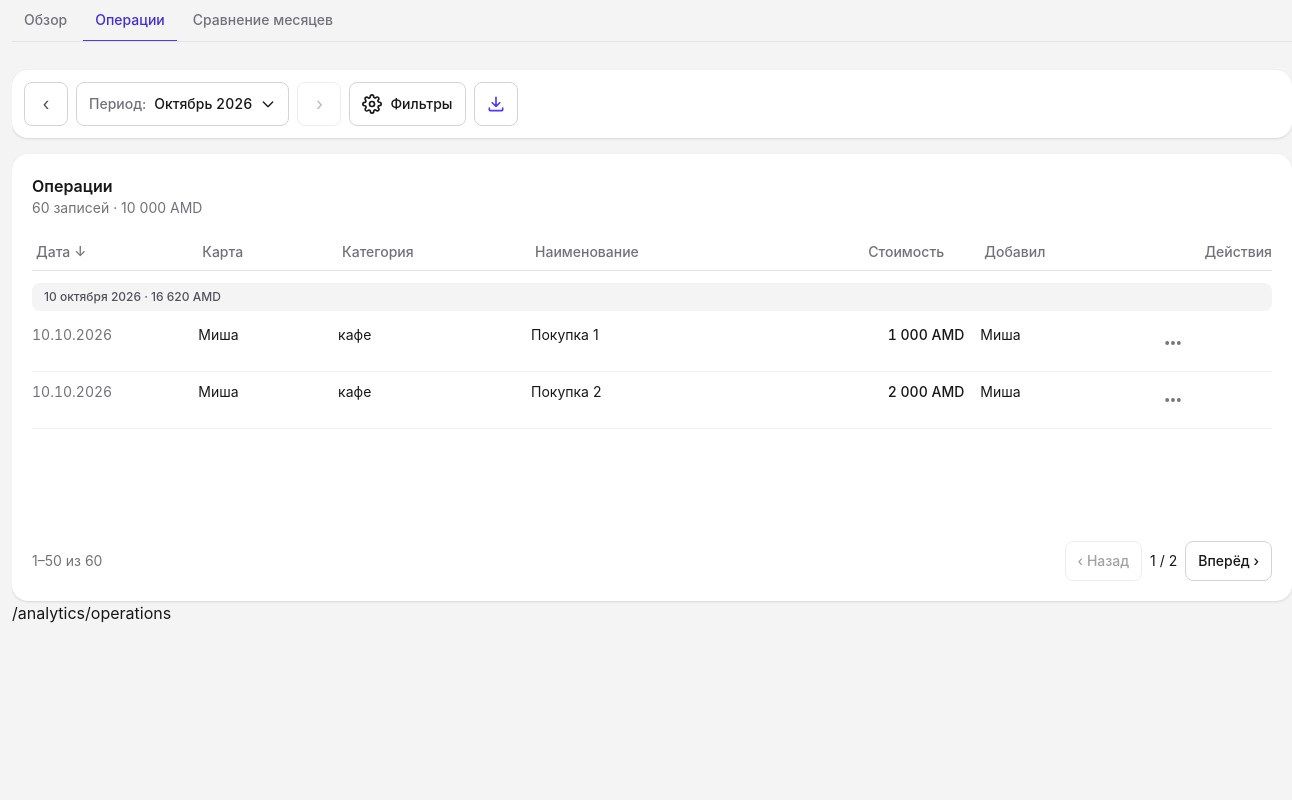
таблица на десктопе: заголовки дней › день, разбитый границей страницы, получает заголовок и на следующей странице (с полной суммой)
Click the button "Вперёд ›" at [1229, 561], box [1185,541,1272,581]
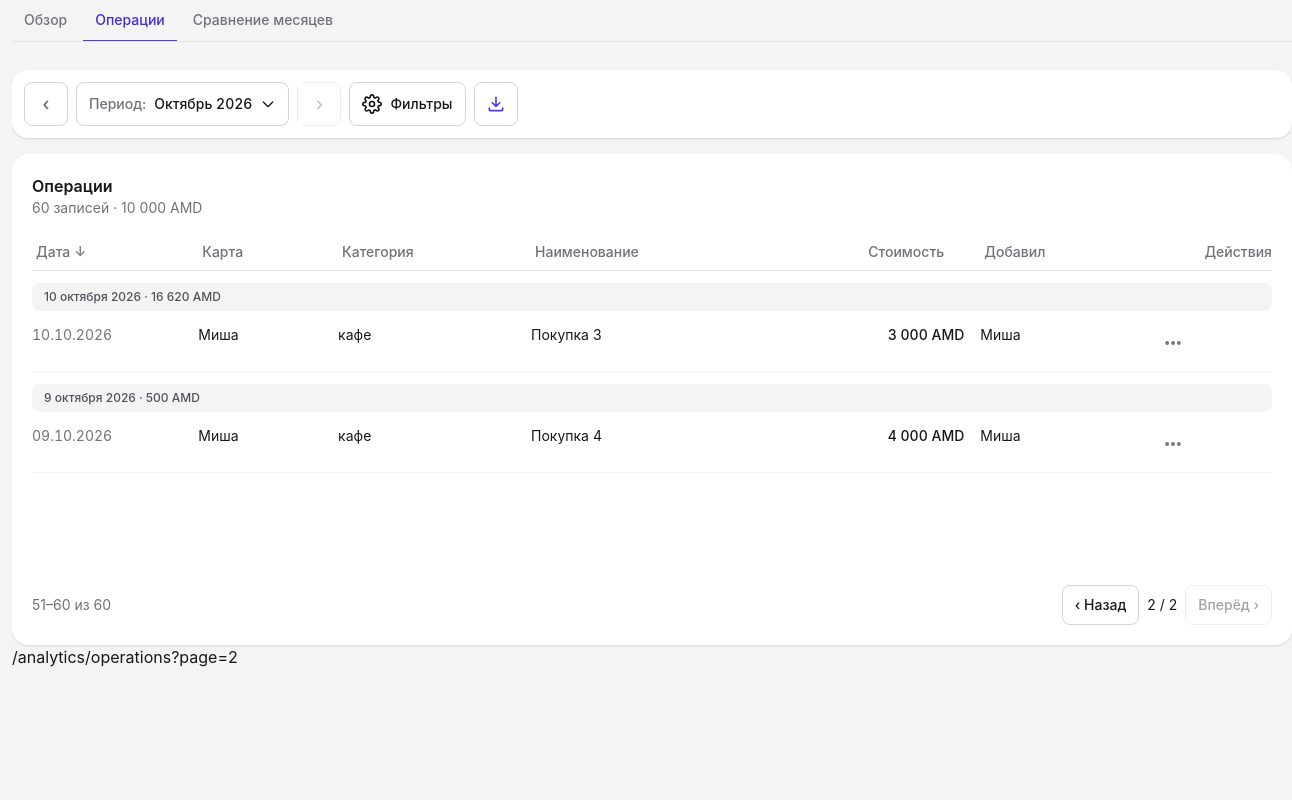
Check: the heading "10 октября 2026 · 16 620 AMD" is shown, box [32,283,1272,311]
Check: the text "Покупка 3" is shown, box [531,325,602,345]
Check: the heading "9 октября 2026 · 500 AMD" is shown, box [32,384,1272,412]
